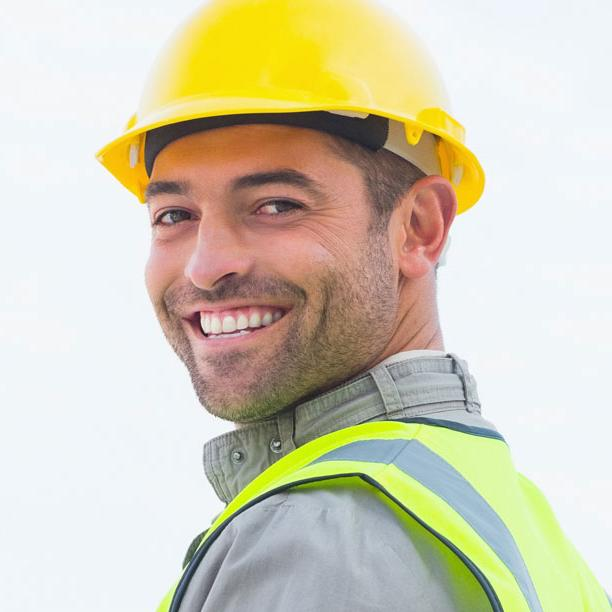helmet: (96, 1, 494, 212)
